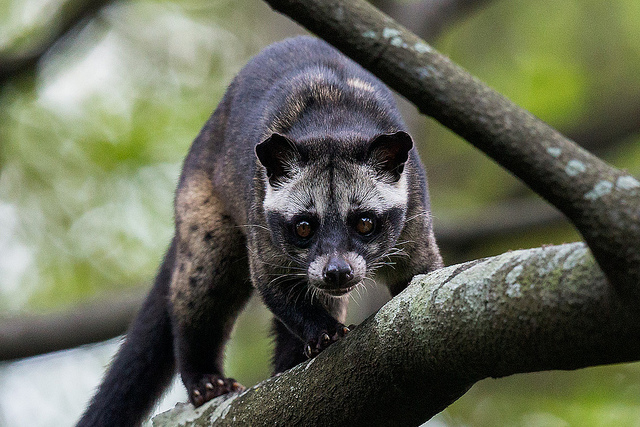Civet: (167, 12, 458, 409)
